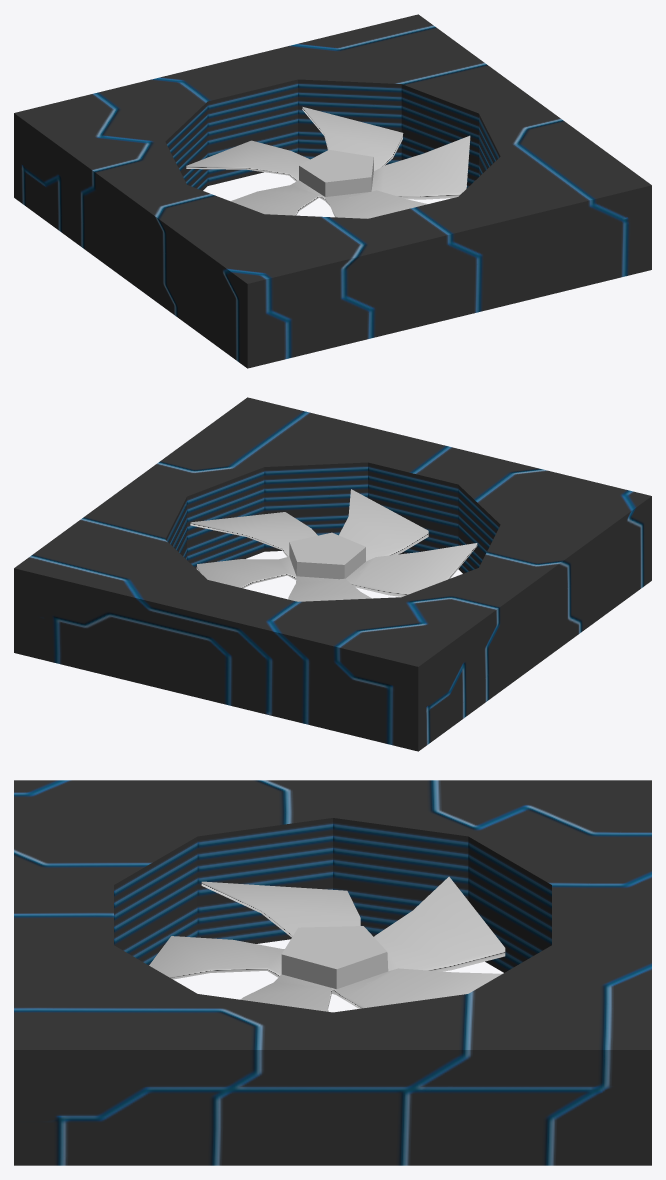
File: Norris_Maze_Fan.fbx
3 views of the same model, one above another, from view 1: azimuth 30°, elevation 25°; view 2: azimuth 150°, elevation 25°; view 3: azimuth 270°, elevation 25° (orthographic). The views are drawn at different scales.
Visible parts, largest first — view 1: FanBase2; view 2: FanBase2; view 3: FanBase2.
Part boxes in pixels (<box>): FanBase2: <box>14,14,651,368</box>; FanBase2: <box>14,397,651,751</box>; FanBase2: <box>14,780,651,1165</box>.
Bounding box in the file's own units: 7.98 × 1.6 × 7.98.
